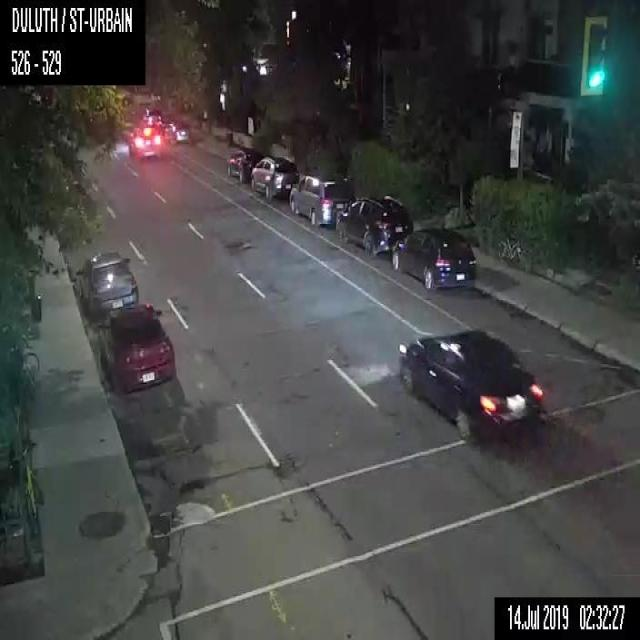vehicle: (396, 328, 544, 438), (100, 303, 176, 388), (392, 228, 477, 286), (334, 195, 413, 255), (76, 250, 138, 320), (288, 172, 356, 226), (251, 155, 300, 201), (128, 120, 163, 157), (227, 146, 262, 182), (163, 120, 190, 142), (142, 105, 164, 125)
